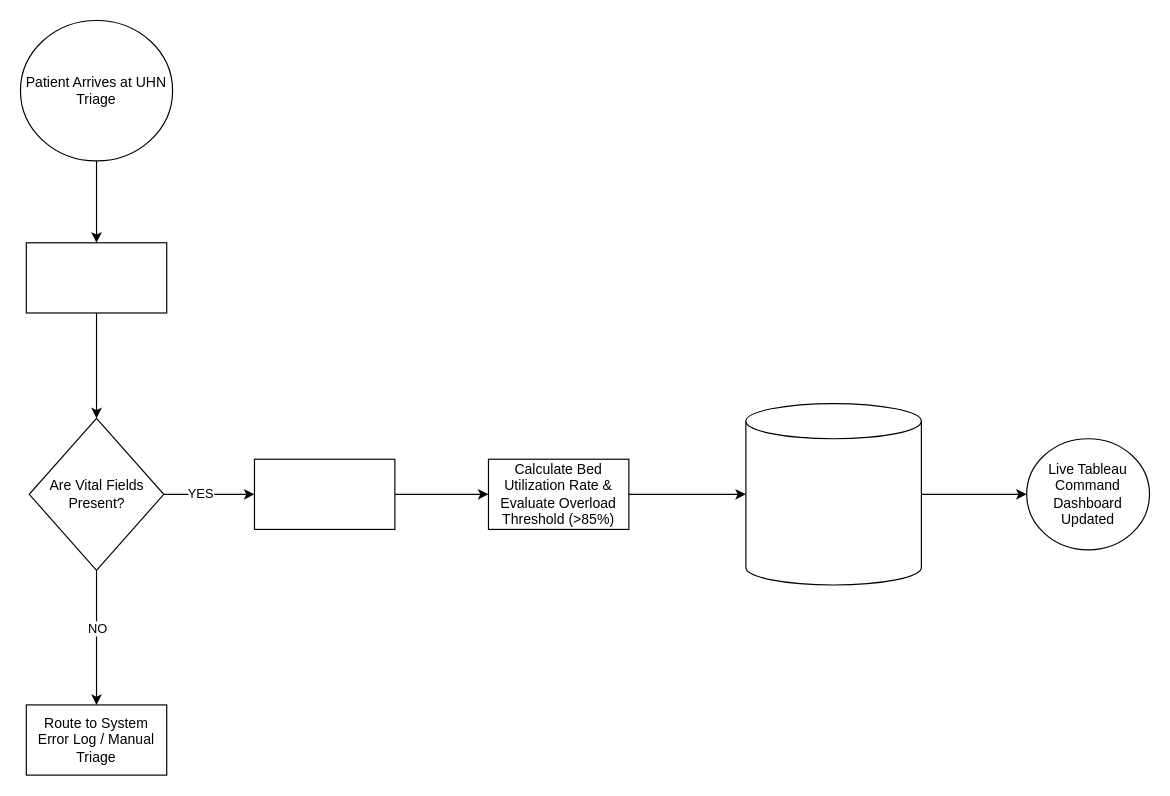
This 1170x796 diagram has some shape labels left out. Here are the shapes that lost their labels. From the top down, the centre of each, then its label:
At pixel 96 277: "Capture Timestamps, MRN & Acuity Score".
At pixel 324 493: "Execute Python Pandas Data Cleaning & Datetime Normalization".
At pixel 833 493: "Load into UHN_Capacity_Analytics MySQL Fact Table".
